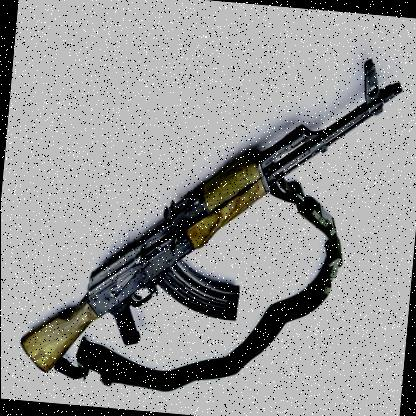rifle: (15, 15, 406, 416)
